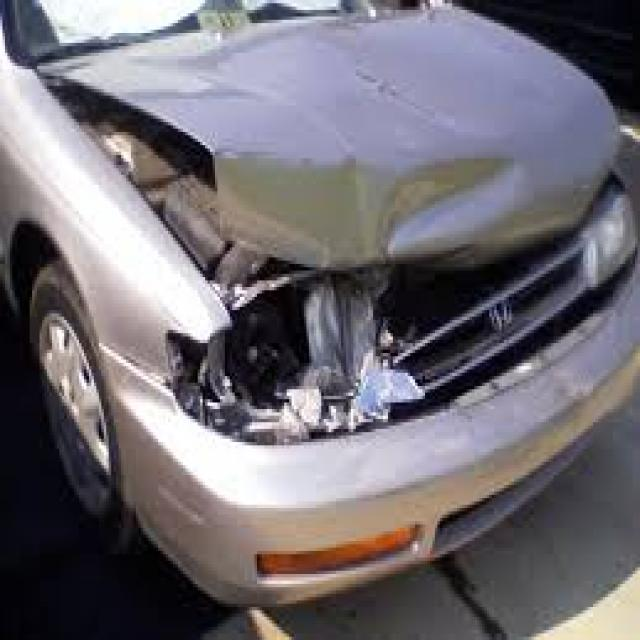moderate: (84, 96, 623, 493)
